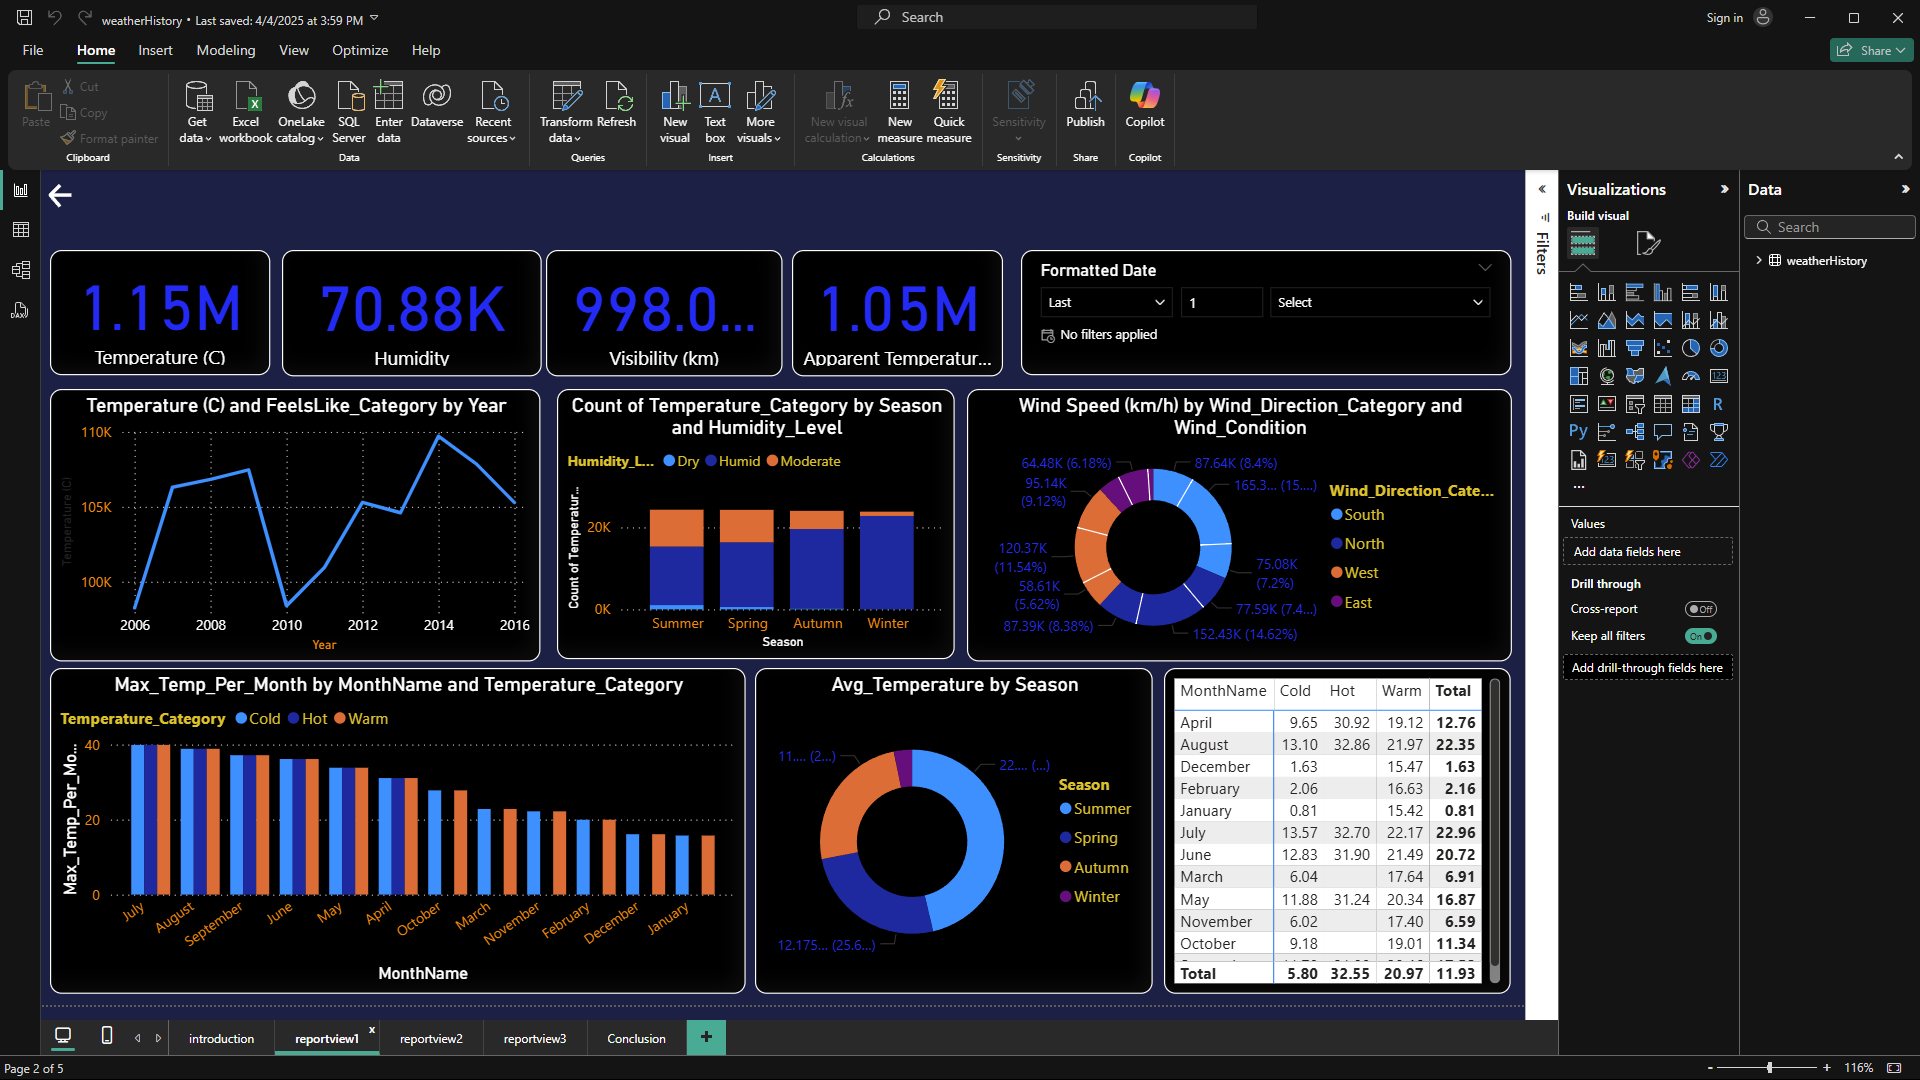

What the dashboard file says about the page in this screenshot:
{"tool":"powerbi","page":{"name":"reportview1","canvas":[1280,720],"ordinal":1},"visuals":[{"type":"lineChart","fields":{"Category":["weatherHistory.Formatted Date.Variation.Date Hierarchy.Year","weatherHistory.Formatted Date.Variation.Date Hierarchy.Quarter","weatherHistory.Formatted Date.Variation.Date Hierarchy.Month","weatherHistory.Formatted Date.Variation.Date Hierarchy.Day"],"Y":["Sum(weatherHistory.Temperature (C))"]},"box":[8.1,188.8,423,235.2],"z":0},{"type":"clusteredColumnChart","fields":{"Category":["weatherHistory.MonthName"],"Y":["weatherHistory.Max_Temp_Per_Month"],"Series":["weatherHistory.Temperature_Category"]},"box":[8,429.6,599.9,280.8],"z":1000},{"type":"columnChart","fields":{"Category":["weatherHistory.Season"],"Y":["CountNonNull(weatherHistory.Temperature_Category)"],"Series":["weatherHistory.Humidity_Level"]},"box":[445.2,188.8,343.2,233.2],"z":2000},{"type":"donutChart","fields":{"Category":["weatherHistory.Season"],"Y":["weatherHistory.Avg_Temperature"]},"box":[615.9,429.6,343.2,280.8],"z":3000},{"type":"pivotTable","fields":{"Rows":["weatherHistory.MonthName"],"Columns":["weatherHistory.Temperature_Category"],"Values":["weatherHistory.Avg_Temperature"]},"box":[968.9,429.6,299.5,280.8],"z":4000},{"type":"donutChart","fields":{"Category":["weatherHistory.Wind_Direction_Category"],"Y":["Sum(weatherHistory.Wind Speed (km/h))"],"Series":["weatherHistory.Wind_Condition"]},"box":[798.7,189,469.7,235.3],"z":5000},{"type":"slicer","fields":{"Values":["weatherHistory.Formatted Date"]},"box":[845,68.6,423.4,107.9],"z":6000},{"type":"card","fields":{"Values":["Sum(weatherHistory.Temperature (C))"]},"box":[8,68.6,189.9,107.9],"z":7000},{"type":"card","fields":{"Values":["Sum(weatherHistory.Humidity)"]},"box":[207.7,68.6,223.7,108.7],"z":8000},{"type":"card","fields":{"Values":["Sum(weatherHistory.Visibility (km))"]},"box":[435.9,68.6,204.1,108.7],"z":9000},{"type":"card","fields":{"Values":["Sum(weatherHistory.Apparent Temperature (C))"]},"box":[648,68.6,181.8,108.7],"z":10000},{"type":"actionButton","box":[2.6,7.7,45.3,29.1],"z":11000}]}

Visuals, with their boxes on the page's 1280x720 design canvas (x1, y1, x2, y2). These are canvas units, not pixel positions in the 1920x1080 screenshot, which may show the page scaled, cropped or inside an application window:
lineChart - weatherHistory.Formatted Date.Variation.Date Hierarchy.Year x weatherHistory.Formatted Date.Variation.Date Hierarchy.Quarter: <bbox>8, 189, 431, 424</bbox>
clusteredColumnChart - weatherHistory.MonthName x weatherHistory.Max_Temp_Per_Month: <bbox>8, 430, 608, 710</bbox>
columnChart - weatherHistory.Season x CountNonNull(weatherHistory.Temperature_Category): <bbox>445, 189, 788, 422</bbox>
donutChart - weatherHistory.Season x weatherHistory.Avg_Temperature: <bbox>616, 430, 959, 710</bbox>
pivotTable - weatherHistory.MonthName x weatherHistory.Temperature_Category: <bbox>969, 430, 1268, 710</bbox>
donutChart - weatherHistory.Wind_Direction_Category x Sum(weatherHistory.Wind Speed (km/h)): <bbox>799, 189, 1268, 424</bbox>
slicer - weatherHistory.Formatted Date: <bbox>845, 69, 1268, 176</bbox>
card - Sum(weatherHistory.Temperature (C)): <bbox>8, 69, 198, 176</bbox>
card - Sum(weatherHistory.Humidity): <bbox>208, 69, 431, 177</bbox>
card - Sum(weatherHistory.Visibility (km)): <bbox>436, 69, 640, 177</bbox>
card - Sum(weatherHistory.Apparent Temperature (C)): <bbox>648, 69, 830, 177</bbox>
actionButton: <bbox>3, 8, 48, 37</bbox>
